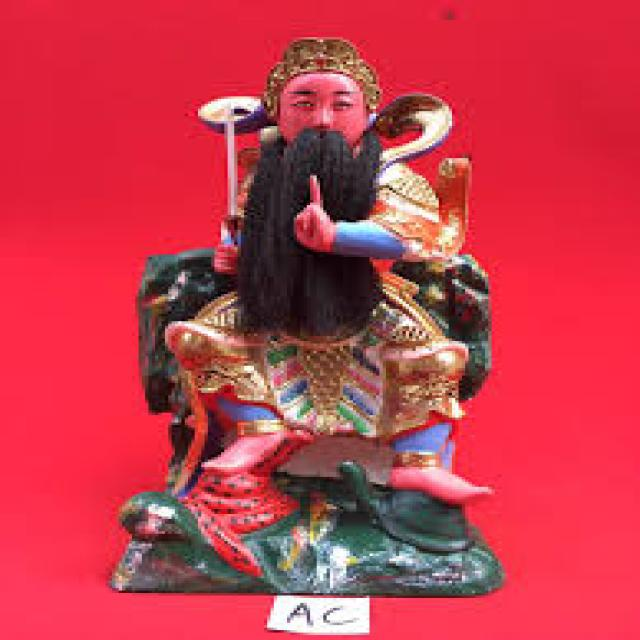Xuan wu: (185, 26, 486, 570)
